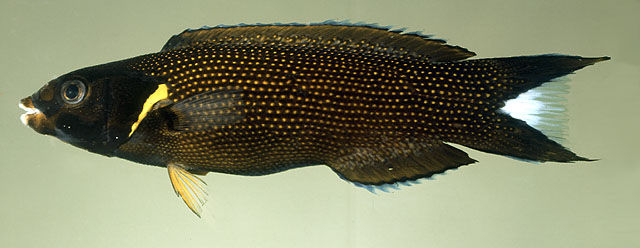fish: (18, 19, 611, 219)
